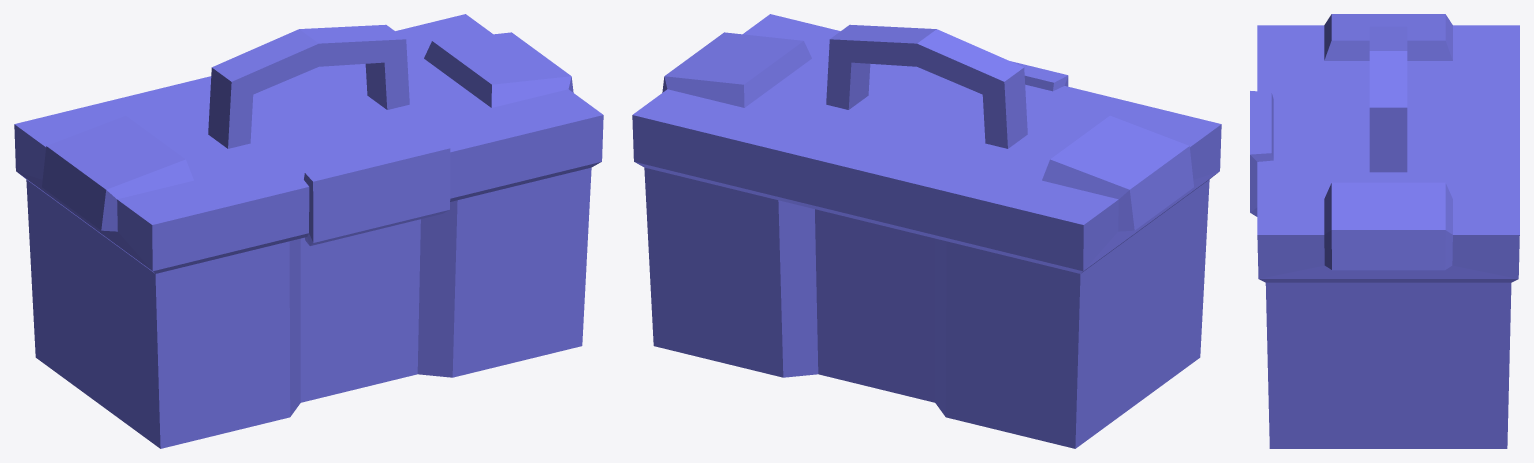
File: SM_Item_ToolBox_01.obj
The picture shows the model from 3 angles, left to right: view 1: azimuth 30°, elevation 25°; view 2: azimuth 150°, elevation 25°; view 3: azimuth 270°, elevation 25°; orthographic projection. The views are drawn at different scales.
Parts seen in each view (by area): view 1: SM_Item_ToolBox_01_Mat_PolygonTown_04_C; view 2: SM_Item_ToolBox_01_Mat_PolygonTown_04_C; view 3: SM_Item_ToolBox_01_Mat_PolygonTown_04_C.
Boxes of the visible parts, x1,y1,x2,y2 form: SM_Item_ToolBox_01_Mat_PolygonTown_04_C: (14, 14, 603, 448); SM_Item_ToolBox_01_Mat_PolygonTown_04_C: (632, 14, 1221, 448); SM_Item_ToolBox_01_Mat_PolygonTown_04_C: (1250, 14, 1519, 448).
Bounding box in the file's own units: 0.5444 × 0.3456 × 0.2815.
1 material, 1 textured.
